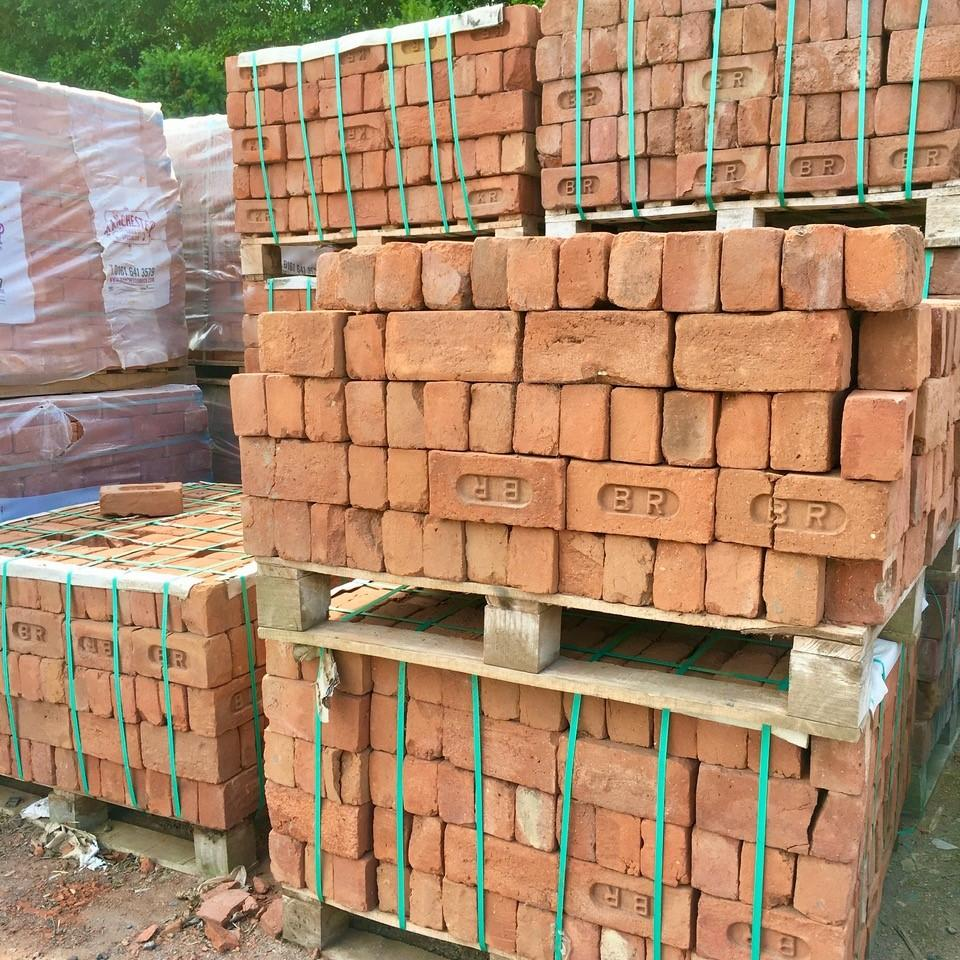Bricks: (710, 475, 880, 550), (682, 320, 848, 380), (565, 862, 692, 938), (572, 463, 710, 530), (430, 455, 558, 520), (560, 738, 675, 810), (708, 782, 830, 845), (532, 328, 672, 382), (705, 900, 825, 960), (448, 830, 568, 890), (237, 442, 350, 505), (385, 320, 520, 372), (452, 715, 548, 782), (840, 233, 925, 305), (780, 388, 837, 475), (785, 228, 840, 310), (138, 633, 228, 682), (658, 385, 708, 472), (662, 235, 718, 312), (265, 690, 352, 738), (272, 795, 370, 837), (258, 320, 335, 372), (558, 232, 610, 308), (708, 392, 762, 465), (560, 380, 610, 458), (722, 243, 778, 312), (502, 240, 565, 300), (705, 545, 753, 622), (605, 243, 658, 312), (652, 548, 702, 618), (612, 385, 652, 470), (788, 45, 865, 88), (420, 242, 470, 308), (868, 318, 912, 392), (515, 385, 558, 460), (762, 558, 812, 622), (377, 756, 433, 813), (885, 90, 960, 132), (0, 610, 60, 662), (510, 528, 558, 592), (468, 240, 515, 305), (428, 375, 467, 452), (537, 0, 622, 35), (855, 400, 892, 480), (696, 713, 752, 765), (689, 841, 738, 900), (347, 505, 382, 585), (463, 188, 538, 225), (70, 618, 128, 665), (780, 152, 862, 185), (878, 138, 957, 172), (340, 380, 382, 442), (441, 885, 482, 947), (355, 440, 390, 512), (380, 450, 422, 510), (382, 245, 420, 310), (395, 180, 458, 218), (608, 538, 645, 602), (552, 535, 595, 590), (147, 730, 225, 760), (312, 362, 342, 440), (455, 13, 528, 45), (345, 250, 382, 312), (470, 385, 505, 450), (252, 510, 298, 558), (230, 372, 262, 440), (747, 847, 787, 900), (801, 862, 845, 910), (690, 63, 755, 95), (380, 112, 448, 142), (885, 45, 960, 72), (473, 522, 505, 585), (430, 525, 460, 592), (363, 799, 398, 856), (822, 802, 861, 853), (392, 512, 425, 572), (332, 202, 402, 230), (448, 103, 525, 128), (80, 720, 138, 753), (603, 816, 634, 876), (377, 33, 435, 65), (0, 653, 36, 704), (886, 3, 951, 31), (647, 834, 689, 877), (318, 75, 362, 116), (522, 796, 557, 847), (395, 382, 422, 448), (545, 90, 615, 115), (268, 380, 298, 438), (405, 61, 447, 102), (484, 897, 515, 952), (232, 60, 292, 88), (408, 698, 443, 746), (446, 772, 476, 828), (566, 805, 595, 862), (685, 160, 740, 190), (522, 687, 563, 727), (370, 686, 396, 749), (310, 505, 342, 555), (318, 250, 348, 300), (408, 823, 439, 871), (513, 906, 544, 954), (753, 730, 793, 767), (818, 741, 854, 782), (606, 704, 640, 747), (485, 787, 511, 842), (569, 693, 600, 739), (240, 205, 287, 235), (339, 861, 367, 911), (707, 106, 738, 151), (765, 0, 800, 39), (735, 4, 769, 44), (552, 168, 608, 192), (92, 584, 125, 624), (18, 708, 72, 732), (292, 125, 340, 152), (350, 322, 375, 373), (838, 85, 865, 131), (811, 92, 836, 141), (364, 73, 401, 106), (651, 23, 680, 65), (15, 575, 54, 606), (676, 104, 706, 144), (86, 766, 122, 799), (678, 15, 703, 62), (114, 672, 137, 723), (845, 0, 874, 40), (332, 42, 382, 65), (137, 674, 162, 720), (166, 678, 189, 728), (401, 145, 431, 182), (330, 128, 380, 150), (657, 716, 684, 756), (35, 661, 62, 701), (566, 38, 593, 78), (232, 135, 285, 155), (622, 67, 645, 113), (283, 85, 314, 119), (714, 15, 739, 57), (483, 680, 512, 716), (744, 100, 770, 140), (622, 116, 648, 156), (500, 133, 528, 170), (410, 880, 437, 918), (410, 670, 442, 702), (361, 151, 387, 190), (186, 595, 208, 641), (48, 751, 76, 787), (504, 50, 535, 82), (626, 0, 678, 19), (779, 96, 800, 143), (648, 109, 671, 151), (194, 688, 214, 735), (591, 123, 617, 159), (651, 158, 676, 195), (12, 744, 41, 775), (808, 3, 835, 36), (154, 597, 180, 631), (454, 141, 477, 179), (136, 775, 160, 811), (69, 668, 89, 711), (181, 780, 198, 830), (626, 156, 645, 199), (478, 136, 498, 176), (451, 672, 472, 710), (205, 782, 227, 818), (91, 675, 111, 714), (655, 73, 680, 104), (626, 24, 644, 67), (381, 147, 400, 187), (288, 57, 322, 79), (435, 144, 453, 185), (599, 36, 618, 74), (274, 842, 293, 878), (454, 61, 475, 93), (135, 594, 154, 629), (245, 90, 264, 125), (286, 158, 302, 198), (537, 38, 552, 79), (303, 160, 321, 194), (385, 655, 398, 698), (288, 202, 308, 229), (256, 164, 272, 197), (326, 159, 343, 190), (264, 88, 279, 123), (480, 51, 492, 94), (566, 128, 583, 158), (233, 96, 246, 131), (273, 166, 286, 199), (315, 199, 330, 226), (349, 154, 361, 185), (241, 167, 251, 195)
